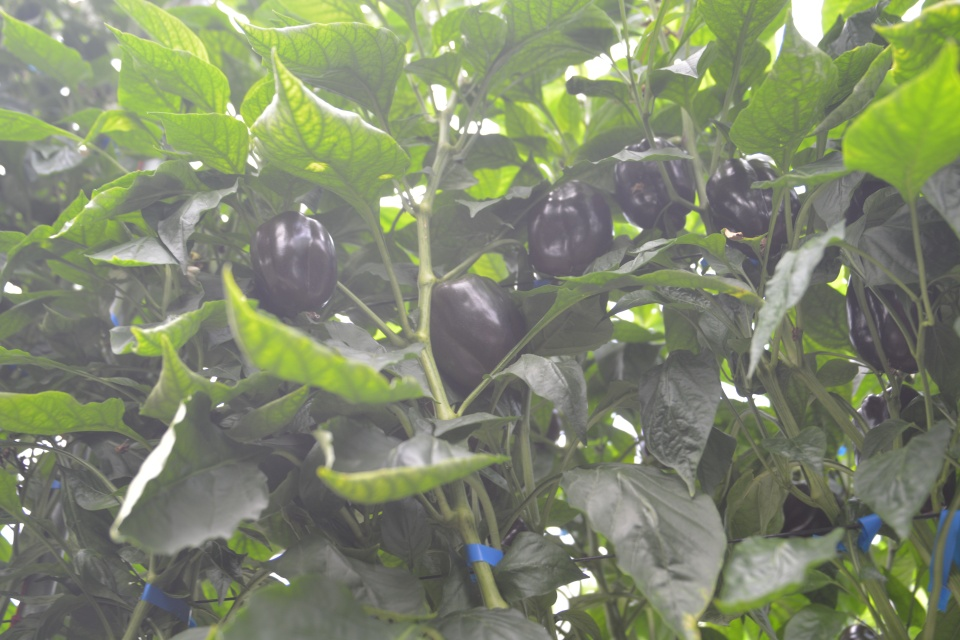fruit: (850, 382, 958, 521), (429, 272, 529, 393), (248, 208, 340, 320), (706, 160, 803, 260), (844, 277, 938, 374), (612, 133, 699, 236), (525, 184, 614, 278)
